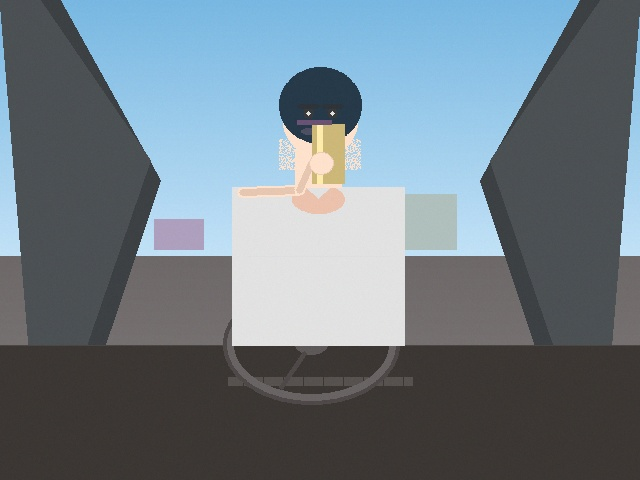drinking: (288, 110, 354, 193)
